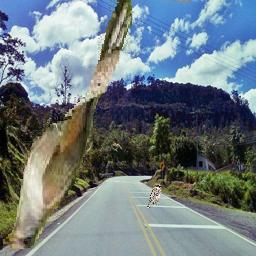Cuckoo: (4, 1, 133, 252)
Sparrow: (147, 184, 162, 209)
